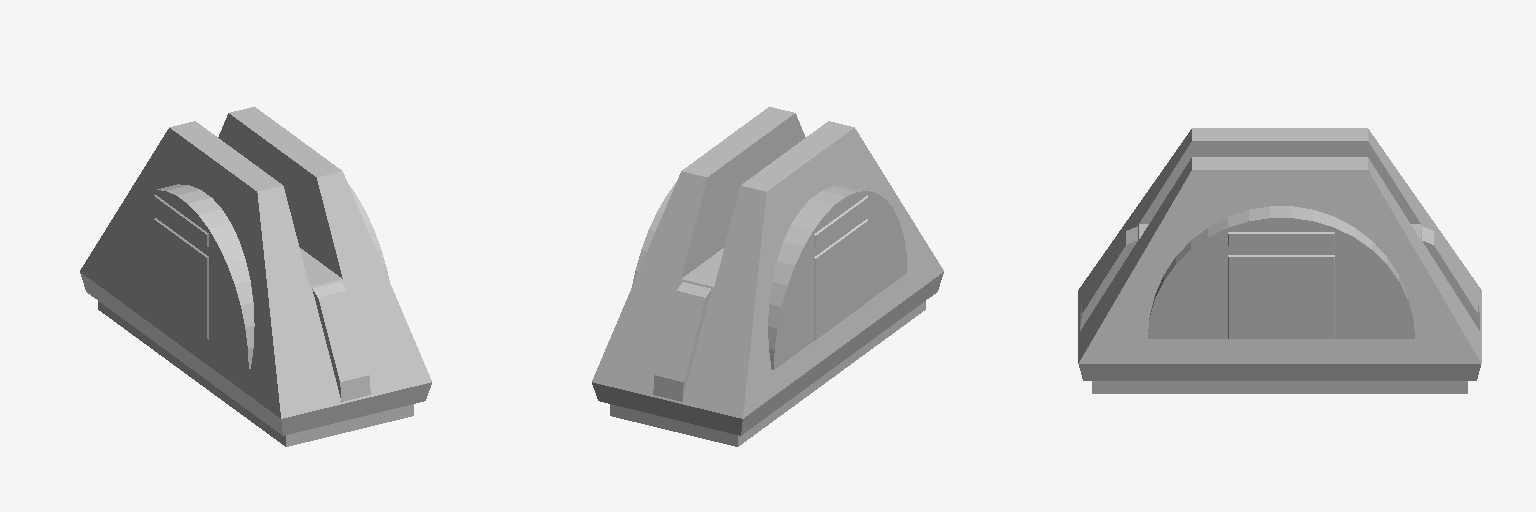
File: Pata chica color.obj
3 views of the same model, side by side, from view 1: azimuth 30°, elevation 25°; view 2: azimuth 150°, elevation 25°; view 3: azimuth 270°, elevation 25° (orthographic).
Parts seen in each view (by area): view 1: Pata_chica; view 2: Pata_chica; view 3: Pata_chica.
Boxes of the visible parts, box(x1,y1,x2,y2) form: Pata_chica: box(80, 107, 431, 446); Pata_chica: box(592, 107, 943, 446); Pata_chica: box(1078, 128, 1481, 393).
Bounding box in the file's own units: 1.09 × 1.48 × 2.52.